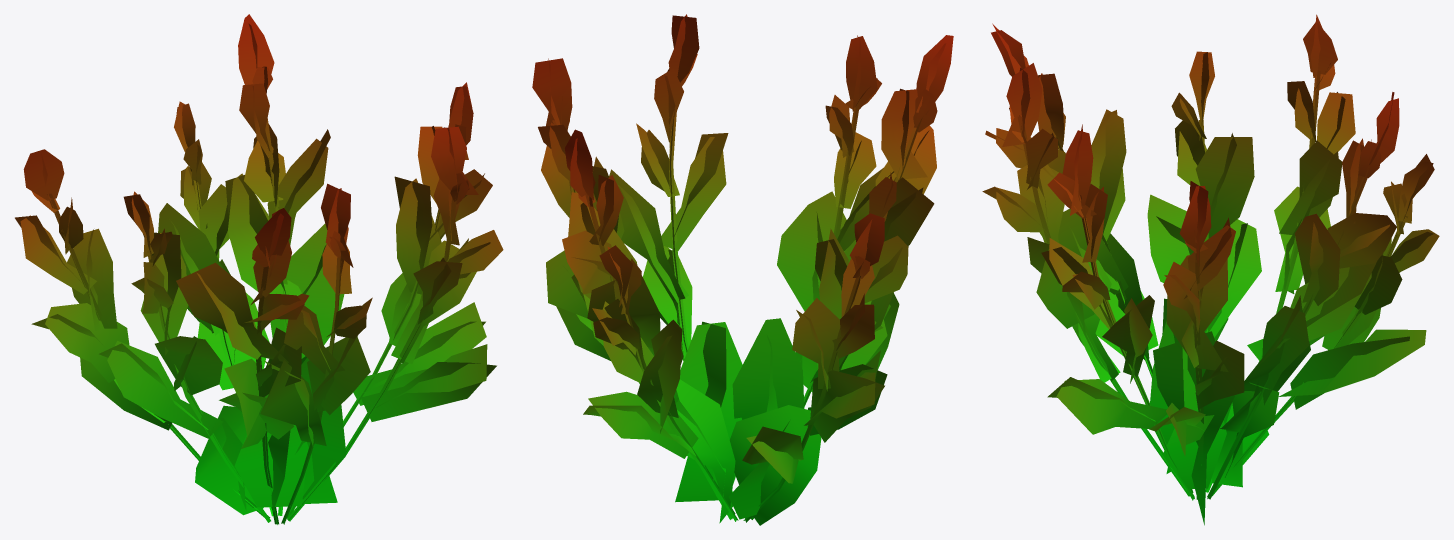
Rendered from Chamomile_LOD1_Var9_ujcnejvja.fbx.
The picture shows the model from 3 angles, left to right: view 1: azimuth 30°, elevation 25°; view 2: azimuth 150°, elevation 25°; view 3: azimuth 270°, elevation 25°; orthographic projection. The views are drawn at different scales.
Parts seen in each view (by area): view 1: _pg00_Var9_LOD1; view 2: _pg00_Var9_LOD1; view 3: _pg00_Var9_LOD1.
Part boxes in pixels (<box>): _pg00_Var9_LOD1: <box>15,14,503,524</box>; _pg00_Var9_LOD1: <box>532,14,953,525</box>; _pg00_Var9_LOD1: <box>982,14,1439,525</box>.
Bounding box in the file's own units: 20.58 × 21.21 × 20.12.
